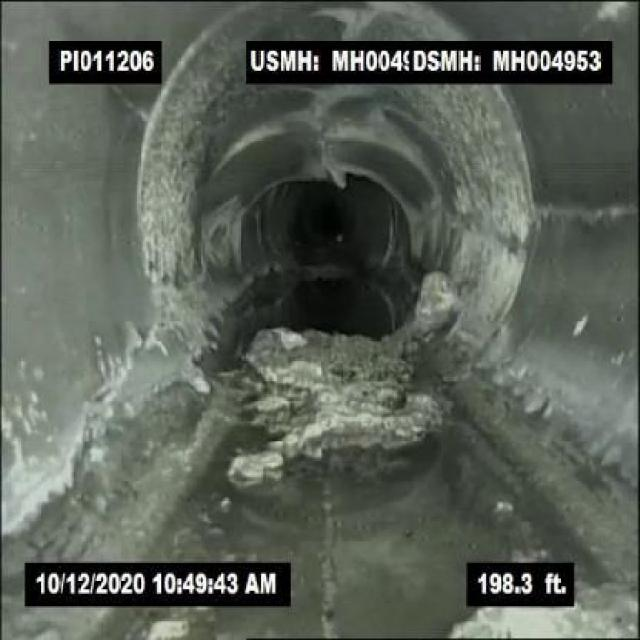Buckling: (312, 3, 391, 39)
Crack: (318, 467, 340, 636), (535, 196, 637, 230), (109, 88, 146, 117)
Debris: (255, 328, 420, 455)
